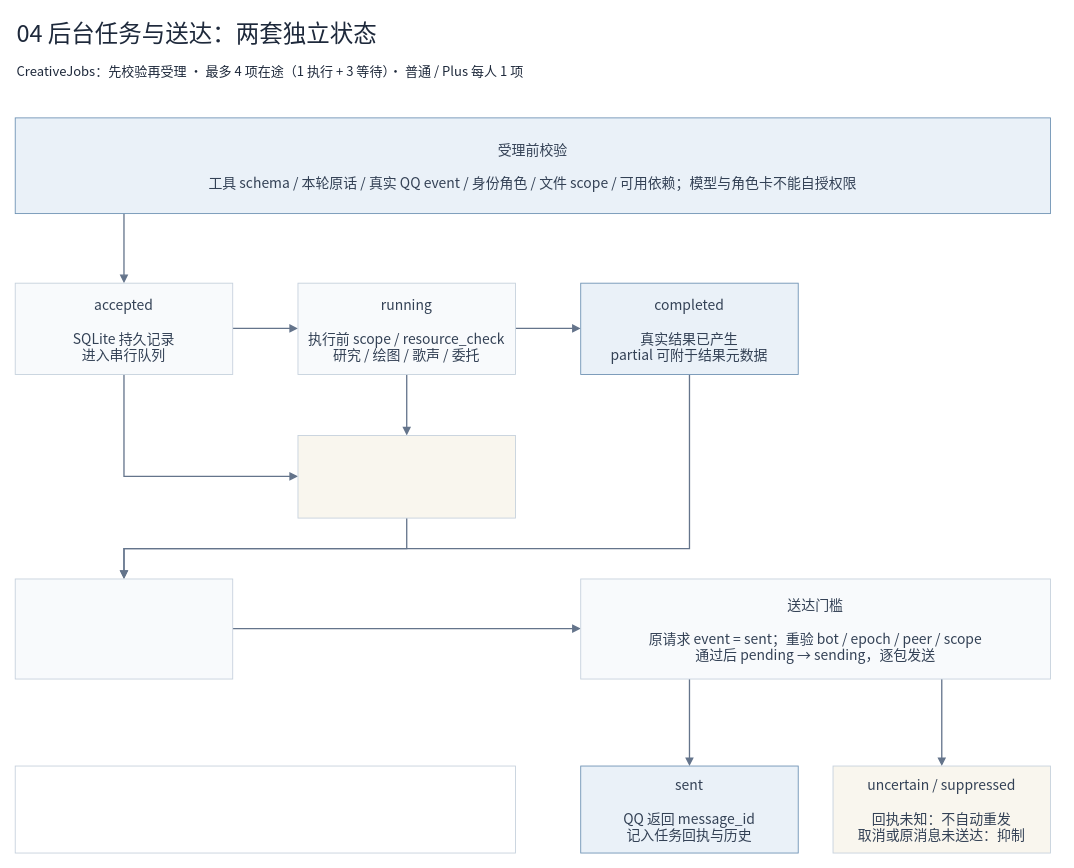
This 1074x868 diagram has some shape labels left out. Here are the shapes that lost their labels. From the top down, the box of each, then its label:
(297, 435, 515, 518): failed / cancelled 异常或取消（含排队期） 不伪称完成
(14, 578, 233, 679): pending 任务结束，等待送达校验 不把任务完成当成送达完成
(14, 765, 515, 853): 公开查询的额外边界 普通用户 900 秒内 2 次；300 秒包含排队 Plus 只免查询限制，不获得管理员权限
